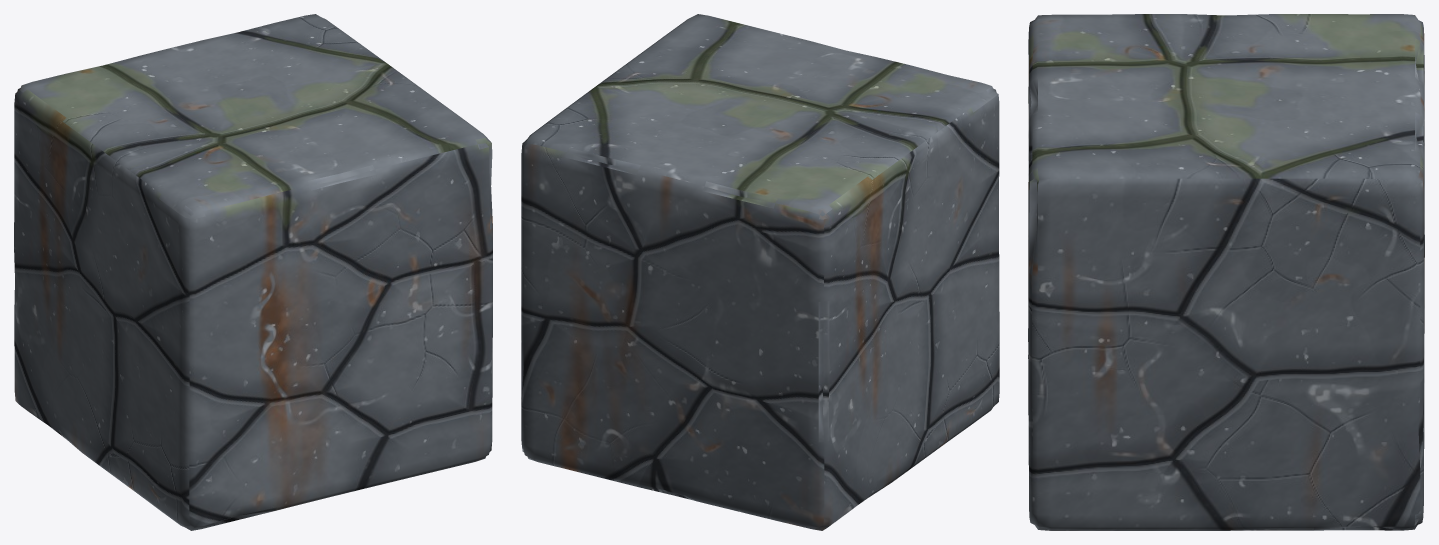
The model's file is rock_cube_metal.glb.
3 renders of one model, left to right at view 1: azimuth 30°, elevation 25°; view 2: azimuth 150°, elevation 25°; view 3: azimuth 270°, elevation 25°, orthographic. The views are drawn at different scales.
Parts seen in each view (by area): view 1: RockCubeMetal; view 2: RockCubeMetal; view 3: RockCubeMetal.
Boxes of the visible parts, <box> form: RockCubeMetal: <box>14,14,492,530</box>; RockCubeMetal: <box>521,14,999,530</box>; RockCubeMetal: <box>1028,14,1424,530</box>.
Size of the model in its own units: 0.9957 by 0.9954 by 0.9958.
Materials: 1 (1 with a texture image).
